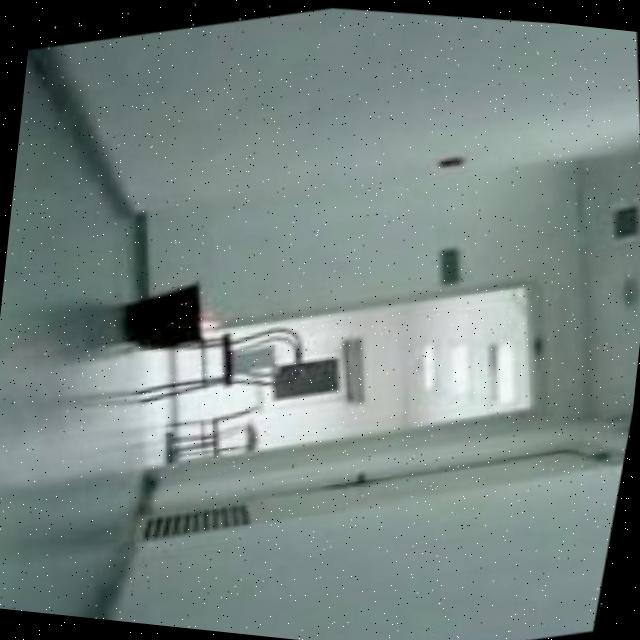fire: (201, 306, 231, 338)
